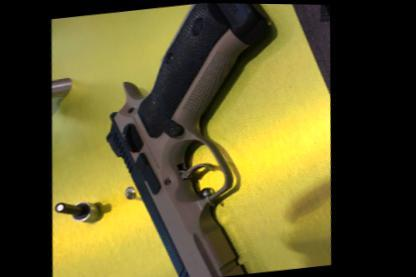pistol: (78, 1, 310, 275)
